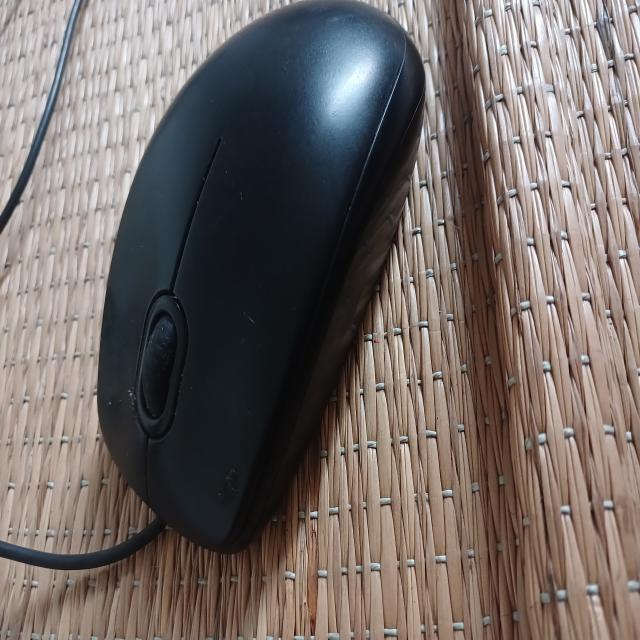mouse: (96, 4, 430, 569)
